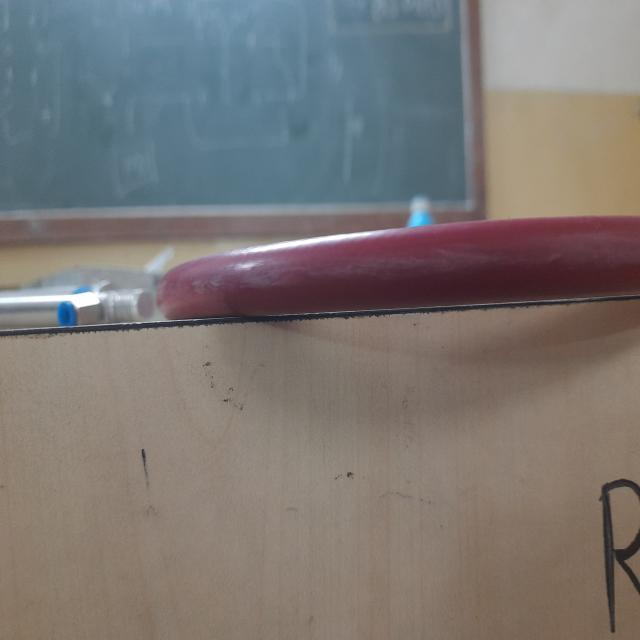daire: (165, 226, 640, 312)
